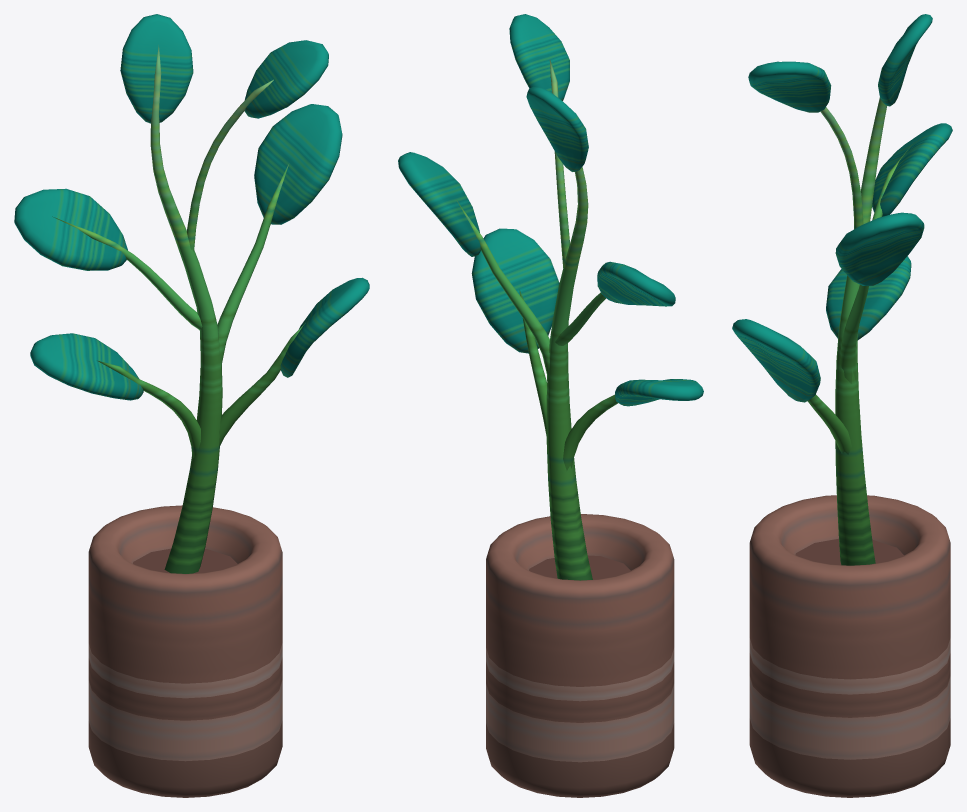
Rendered from plants-15.glb.
The picture shows the model from 3 angles, left to right: view 1: azimuth 30°, elevation 25°; view 2: azimuth 150°, elevation 25°; view 3: azimuth 270°, elevation 25°; orthographic projection. The views are drawn at different scales.
Parts seen in each view (by area): view 1: Plants_15; view 2: Plants_15; view 3: Plants_15.
Part boxes in pixels (<box>): Plants_15: <box>14,14,369,797</box>; Plants_15: <box>398,14,703,797</box>; Plants_15: <box>732,14,952,797</box>.
Bounding box in the file's own units: 0.5145 × 1.16 × 0.3109.
1 material, 1 textured.
